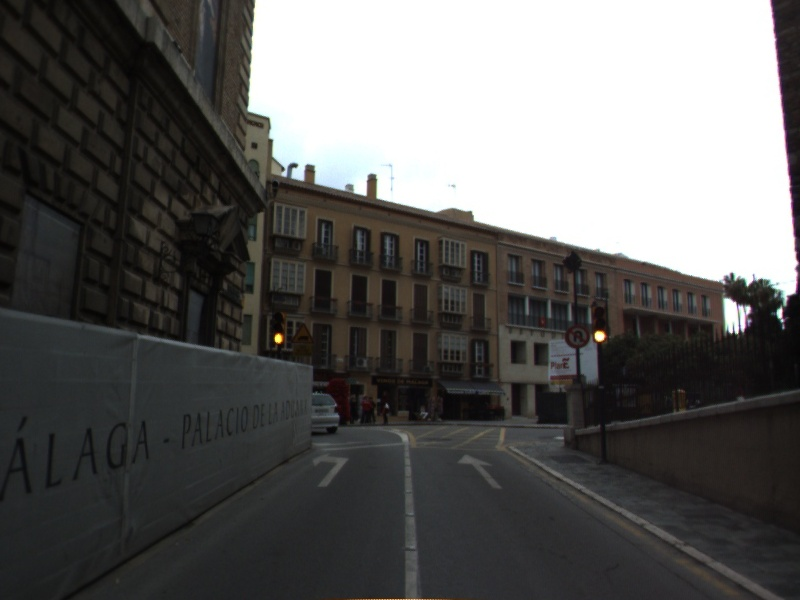LEFT: (311, 451, 351, 489)
STRAIGHT: (455, 451, 505, 490)
